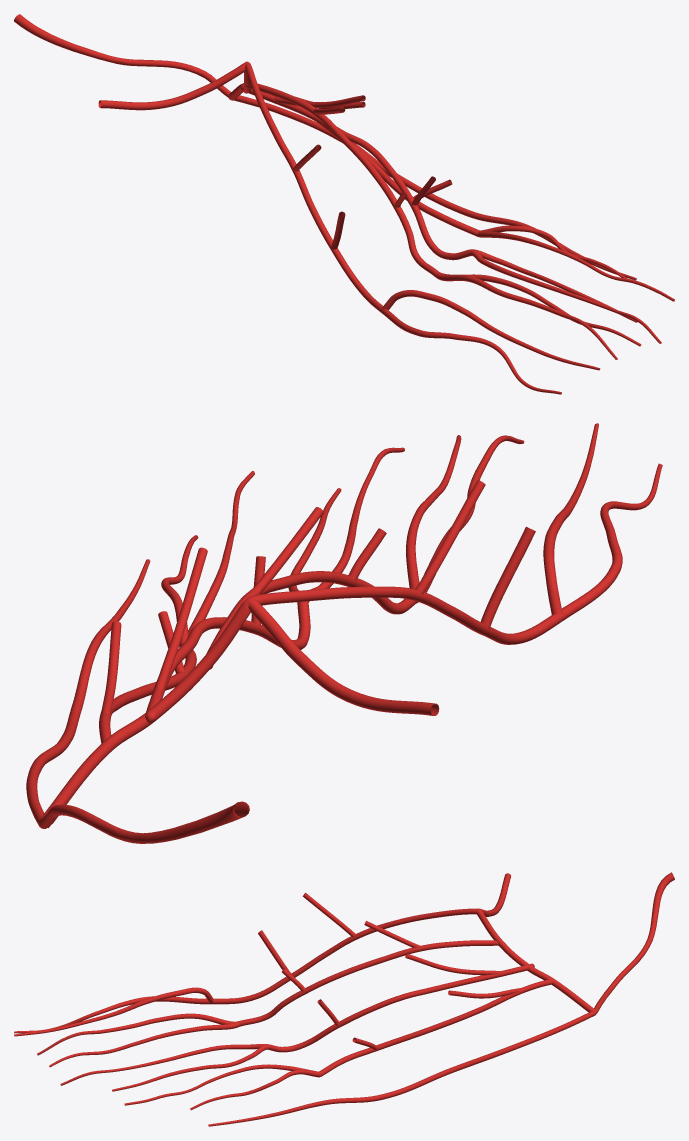
Rendered from circulatorio-lateral-plantar-artery-l.glb.
The picture shows the model from 3 angles, top to bottom: view 1: azimuth 30°, elevation 25°; view 2: azimuth 150°, elevation 25°; view 3: azimuth 270°, elevation 25°; orthographic projection. The views are drawn at different scales.
Parts seen in each view (by area): view 1: Proper plantar digital arteries.l, Plantar metatarsal arteries.l, Common plantar digital arteries.l, Perforating branches of plantar metatarsal arteries.l, Lateral plantar artery.l, Plantar arch.l; view 2: Proper plantar digital arteries.l, Perforating branches of plantar metatarsal arteries.l, Plantar metatarsal arteries.l, Plantar arch.l, Lateral plantar artery.l, Common plantar digital arteries.l; view 3: Proper plantar digital arteries.l, Plantar metatarsal arteries.l, Perforating branches of plantar metatarsal arteries.l, Common plantar digital arteries.l, Plantar arch.l, Lateral plantar artery.l.
Part boxes in pixels (box(x1,y1,x2,y2)): Proper plantar digital arteries.l: box(233, 95, 674, 394); Plantar metatarsal arteries.l: box(240, 62, 413, 249); Common plantar digital arteries.l: box(331, 202, 479, 312); Perforating branches of plantar metatarsal arteries.l: box(274, 95, 452, 249); Lateral plantar artery.l: box(14, 14, 230, 97); Plantar arch.l: box(98, 61, 251, 110); Proper plantar digital arteries.l: box(26, 423, 662, 828); Perforating branches of plantar metatarsal arteries.l: box(101, 480, 535, 714); Plantar metatarsal arteries.l: box(99, 571, 488, 743); Plantar arch.l: box(39, 596, 439, 827); Lateral plantar artery.l: box(39, 801, 249, 843); Common plantar digital arteries.l: box(179, 578, 562, 675); Proper plantar digital arteries.l: box(14, 987, 595, 1126); Plantar metatarsal arteries.l: box(291, 908, 552, 1050); Perforating branches of plantar metatarsal arteries.l: box(258, 893, 521, 1049); Common plantar digital arteries.l: box(212, 976, 377, 1076); Plantar arch.l: box(476, 873, 595, 1012); Lateral plantar artery.l: box(594, 872, 674, 1014).
Size of the model in its own units: 0.0839 by 0.0353 by 0.163.
